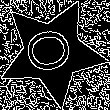O_E: (23, 27, 81, 77)
